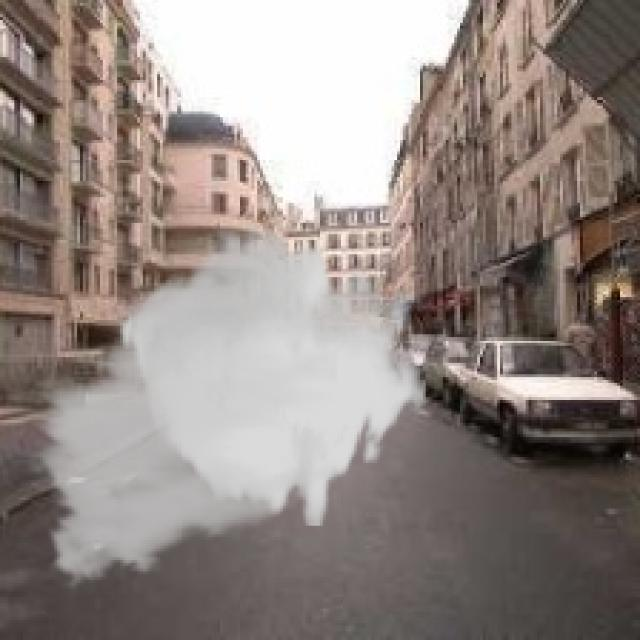smoke: (26, 223, 428, 597)
